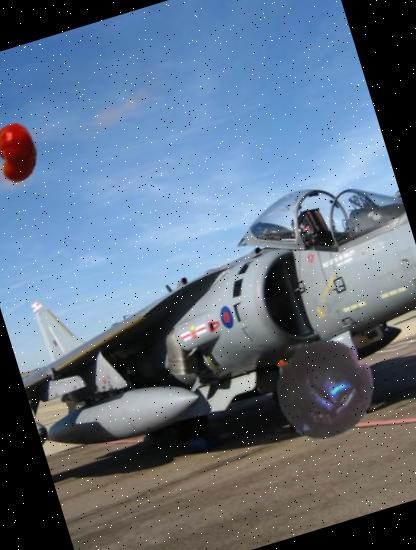Passion: (259, 323, 388, 452)
Tomato: (0, 115, 54, 190)
